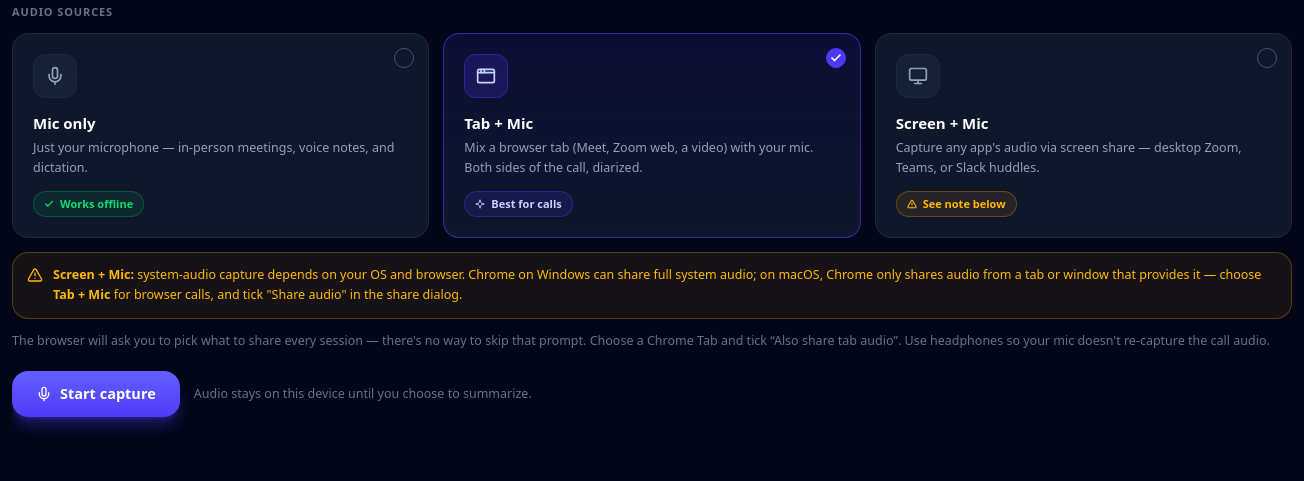
it: MeetingCapture › mic permission denied surfaces the error and stays on the picker
The width and height of the screenshot is (1304, 481).
Click the button with test id "start-capture-button".
click(96, 394)  # box [12,371,180,417]
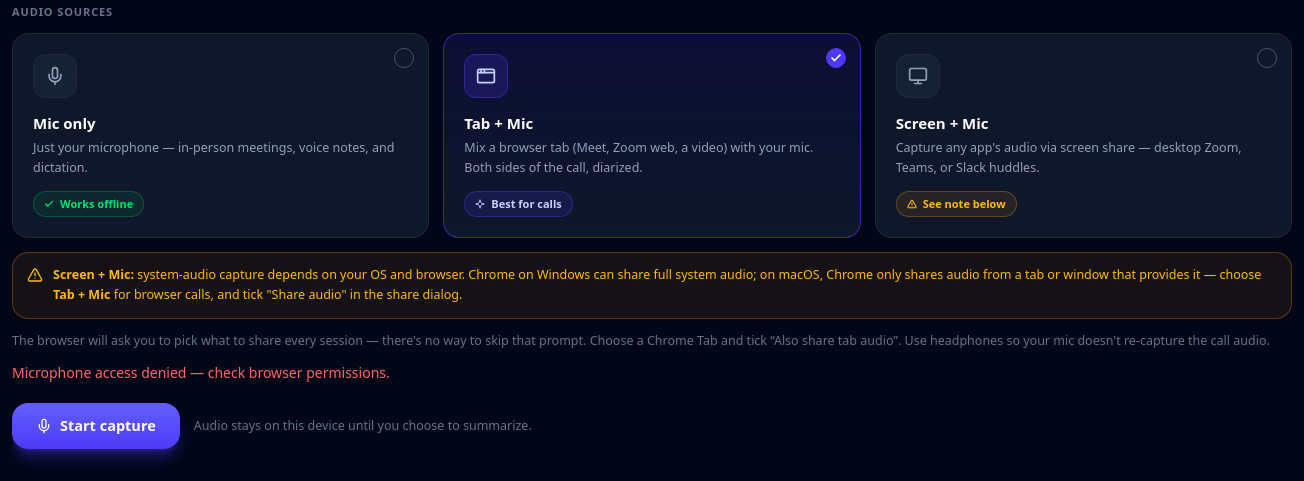
Expected: the element with test id "source-cards" is shown, [12,32,1292,238]
Expected: the message with test id "capture-error" shows "Microphone access denied", [12,363,390,382]
